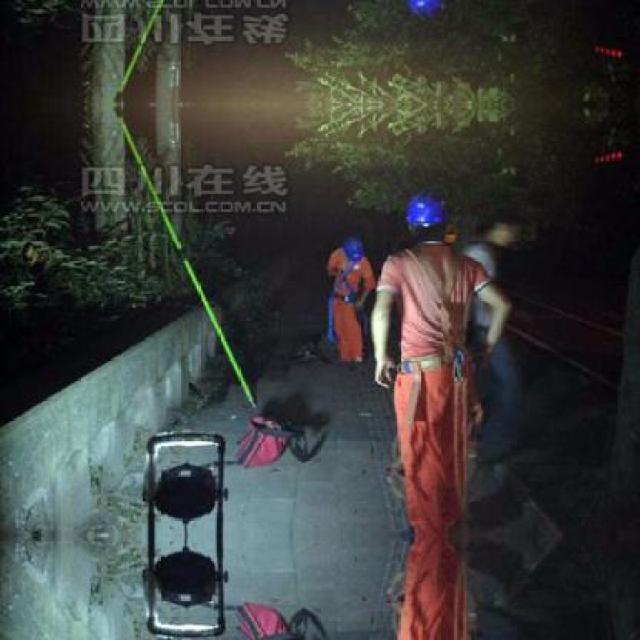helmet: (396, 191, 456, 243), (395, 0, 457, 17), (340, 234, 365, 260)
